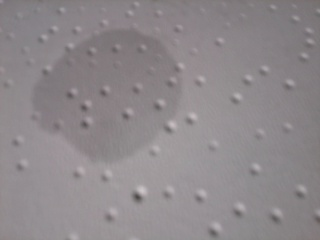Water_detected: (83, 52, 203, 153)
